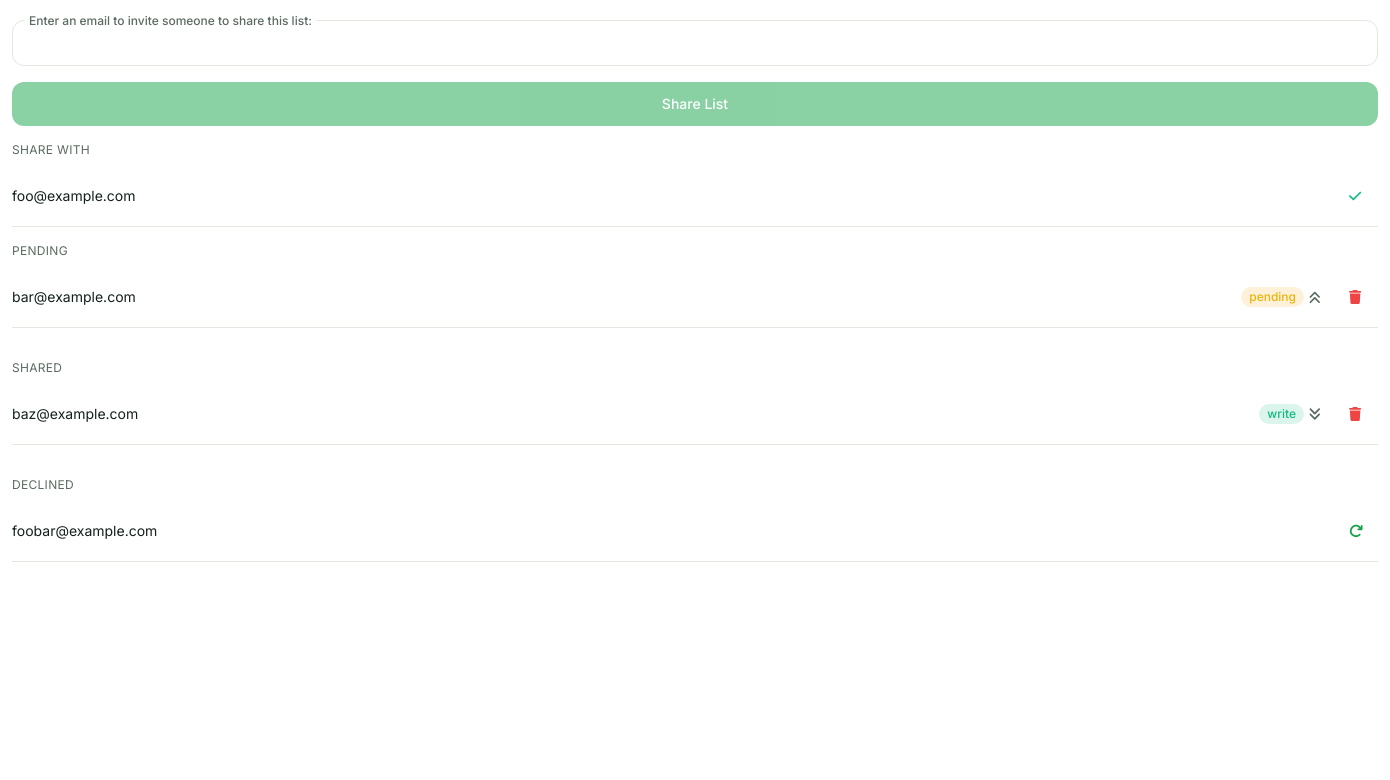
Test case: ShareListForm › toggles permissions › toggles permissions in pending
This screenshot has width=1390, height=780.
Check: the text "pending" is shown, box [1241, 287, 1304, 307]
Click the button with test id "toggle-permissions" showing "pending" at (1282,297), box [1241, 287, 1322, 307]
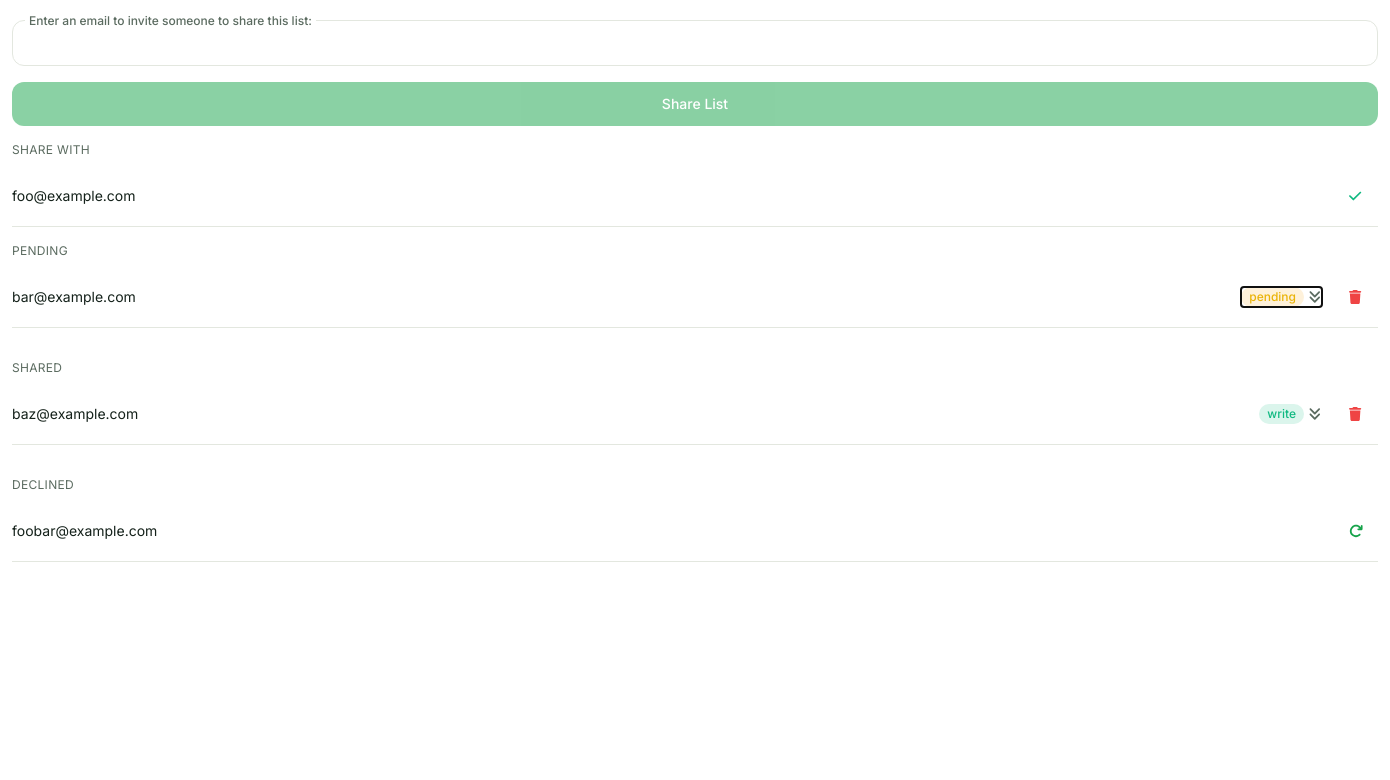
Check: the text "pending" is shown, box [1241, 287, 1304, 307]
